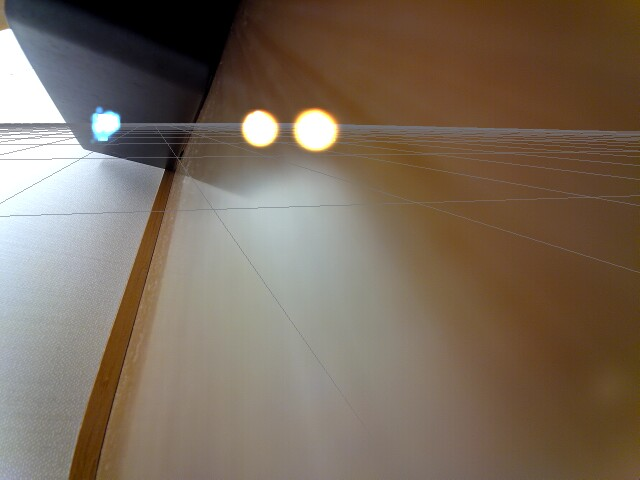firebig: (289, 101, 343, 155)
